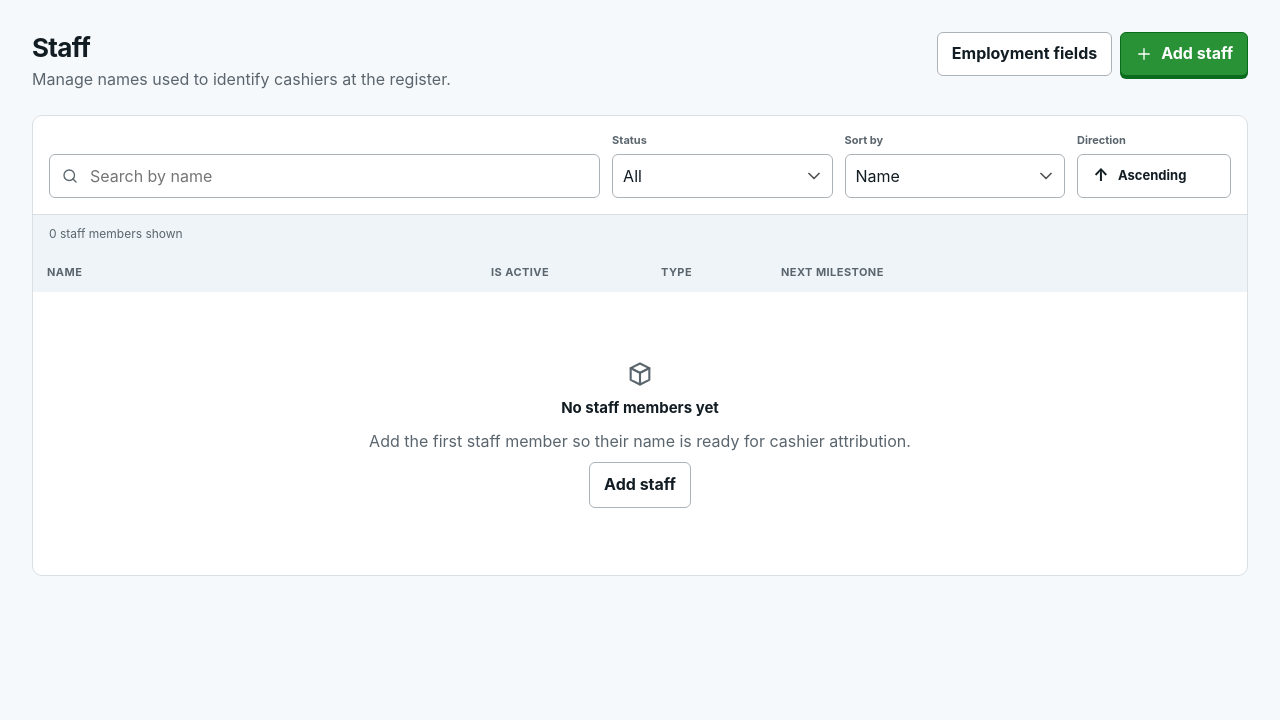
it: staff roster page › shows a no-results state that can clear the current criteria
Expected: the heading "No staff members yet" is shown, x1=561 y1=397 x2=719 y2=420
Type "missing" into the search field named "Search staff". click: (325, 176)
box: x1=49 y1=154 x2=600 y2=198
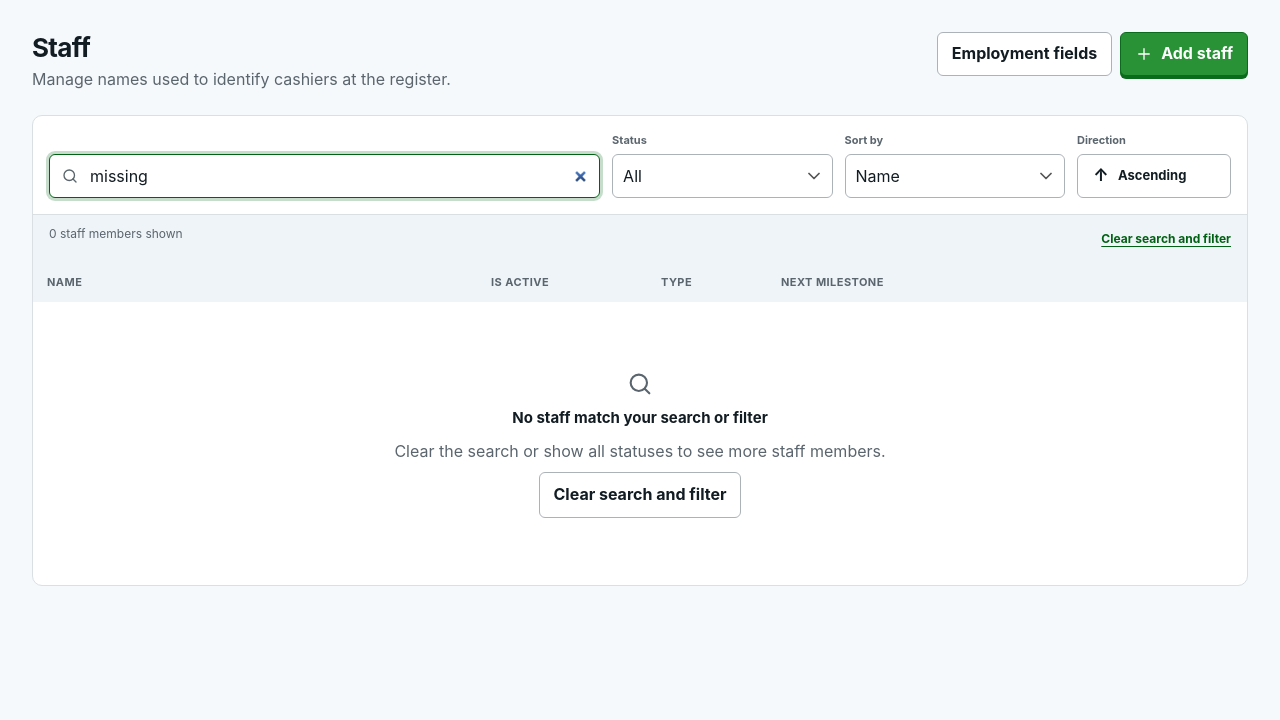
Result: the heading "No staff match your search or filter" is shown at x1=512 y1=407 x2=768 y2=430
Click the button "Clear search and filter" in the row of "0 staff members shown". click: (1166, 239)
box: x1=1101 y1=225 x2=1231 y2=253
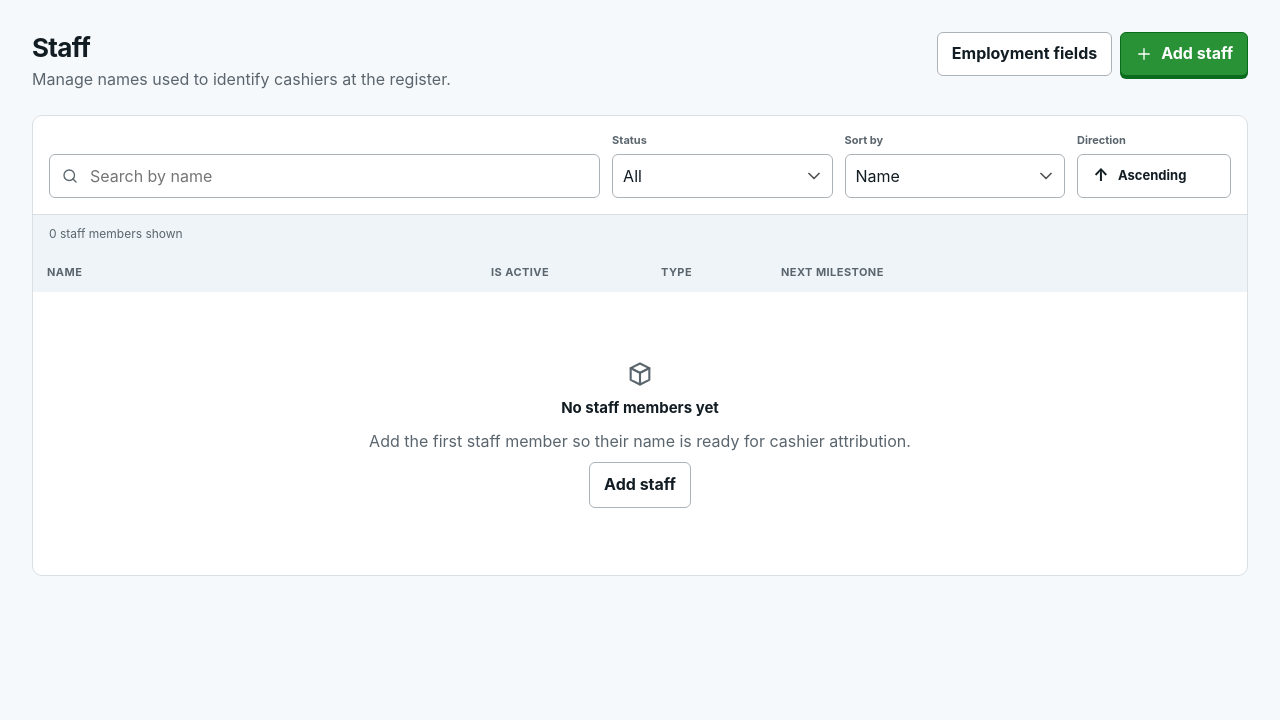
Expected: the dropdown labelled "Status" shows "All", x1=612 y1=154 x2=832 y2=198
Result: the search field named "Search staff" is empty at x1=49 y1=154 x2=600 y2=198
